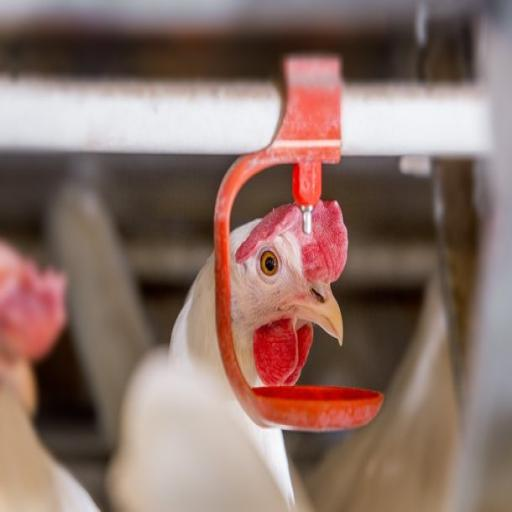healthy: (239, 196, 338, 360)
